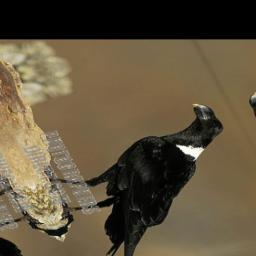Crow: (14, 100, 256, 256)
